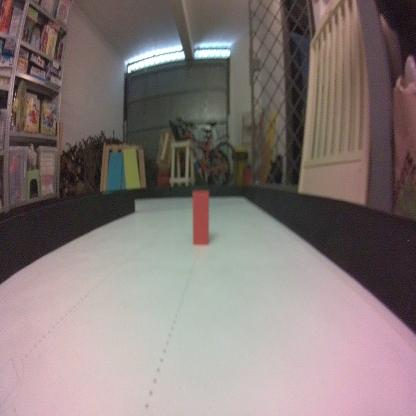red: (190, 188, 211, 248)
